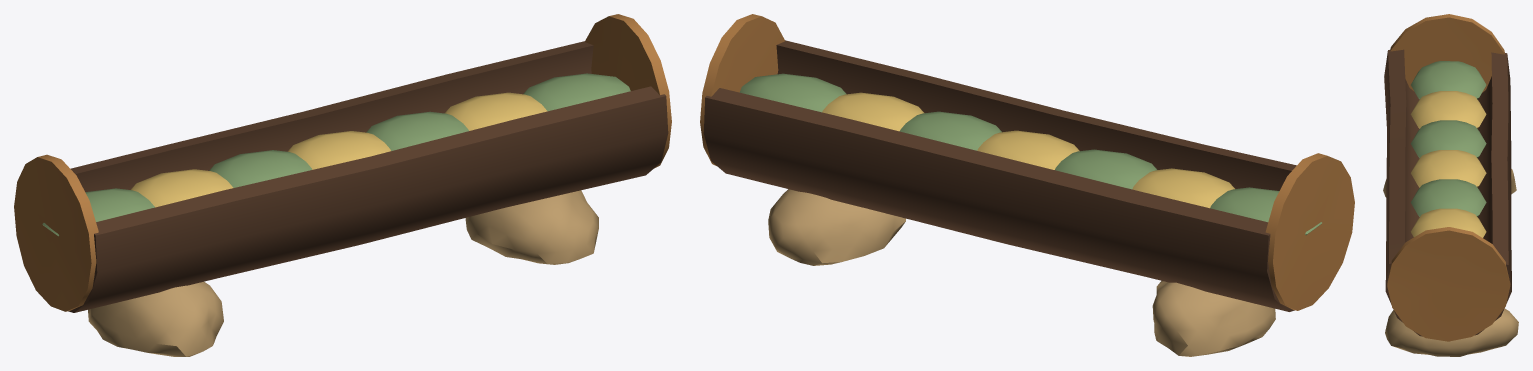
File: deco_feeding_trough_log.fbx
The picture shows the model from 3 angles, left to right: view 1: azimuth 30°, elevation 25°; view 2: azimuth 150°, elevation 25°; view 3: azimuth 270°, elevation 25°; orthographic projection. The views are drawn at different scales.
Parts seen in each view (by area): view 1: FeedingTrough_Log_Log, FeedingTrough_Log_Feed, FeedingTrough_Log_Supports; view 2: FeedingTrough_Log_Log, FeedingTrough_Log_Feed, FeedingTrough_Log_Supports; view 3: FeedingTrough_Log_Log, FeedingTrough_Log_Feed, FeedingTrough_Log_Supports.
Boxes of the visible parts, x1,y1,x2,y2 form: FeedingTrough_Log_Log: (14,14,671,312); FeedingTrough_Log_Feed: (42,73,630,236); FeedingTrough_Log_Supports: (88,190,598,356); FeedingTrough_Log_Log: (700,14,1354,311); FeedingTrough_Log_Feed: (739,73,1321,235); FeedingTrough_Log_Supports: (768,189,1275,356); FeedingTrough_Log_Log: (1384,14,1511,341); FeedingTrough_Log_Feed: (1410,61,1486,237); FeedingTrough_Log_Supports: (1383,169,1518,356).
Bounding box in the file's own units: 245 × 77.61 × 64.48.
